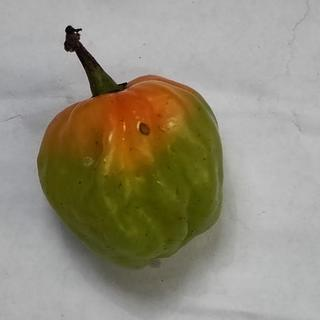Defect: (130, 118, 156, 141)
